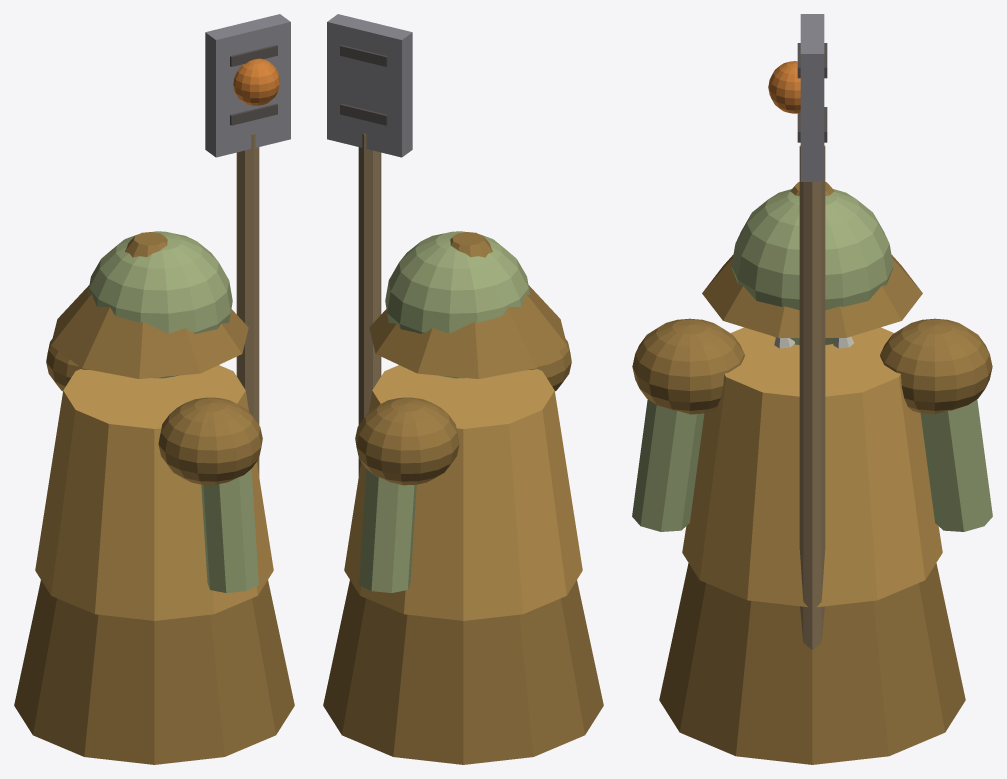
File: hero_durgar_5.glb
The picture shows the model from 3 angles, left to right: view 1: azimuth 30°, elevation 25°; view 2: azimuth 150°, elevation 25°; view 3: azimuth 270°, elevation 25°; orthographic projection. The views are drawn at different scales.
Parts seen in each view (by area): view 1: figurka; view 2: figurka; view 3: figurka.
Boxes of the visible parts, x1,y1,x2,y2 form: figurka: (14, 14, 294, 764); figurka: (323, 14, 603, 764); figurka: (632, 14, 992, 764).
Size of the model in its own units: 0.54 by 1.34 by 0.6121.
